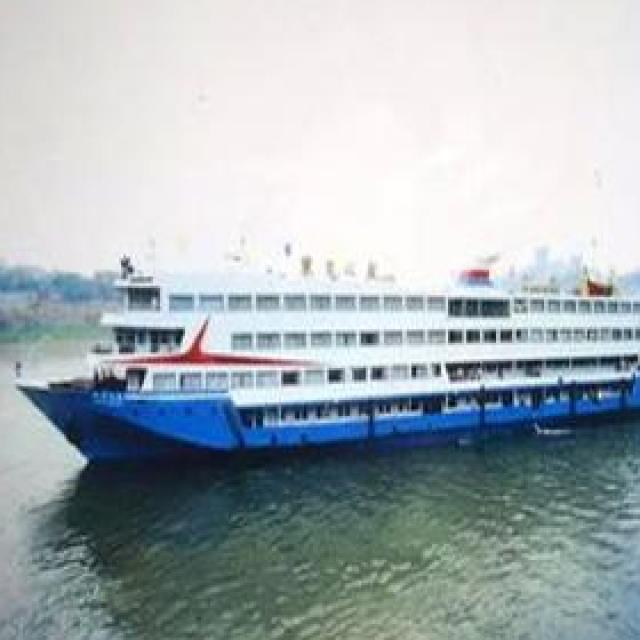passenger ship: (11, 226, 640, 453)
